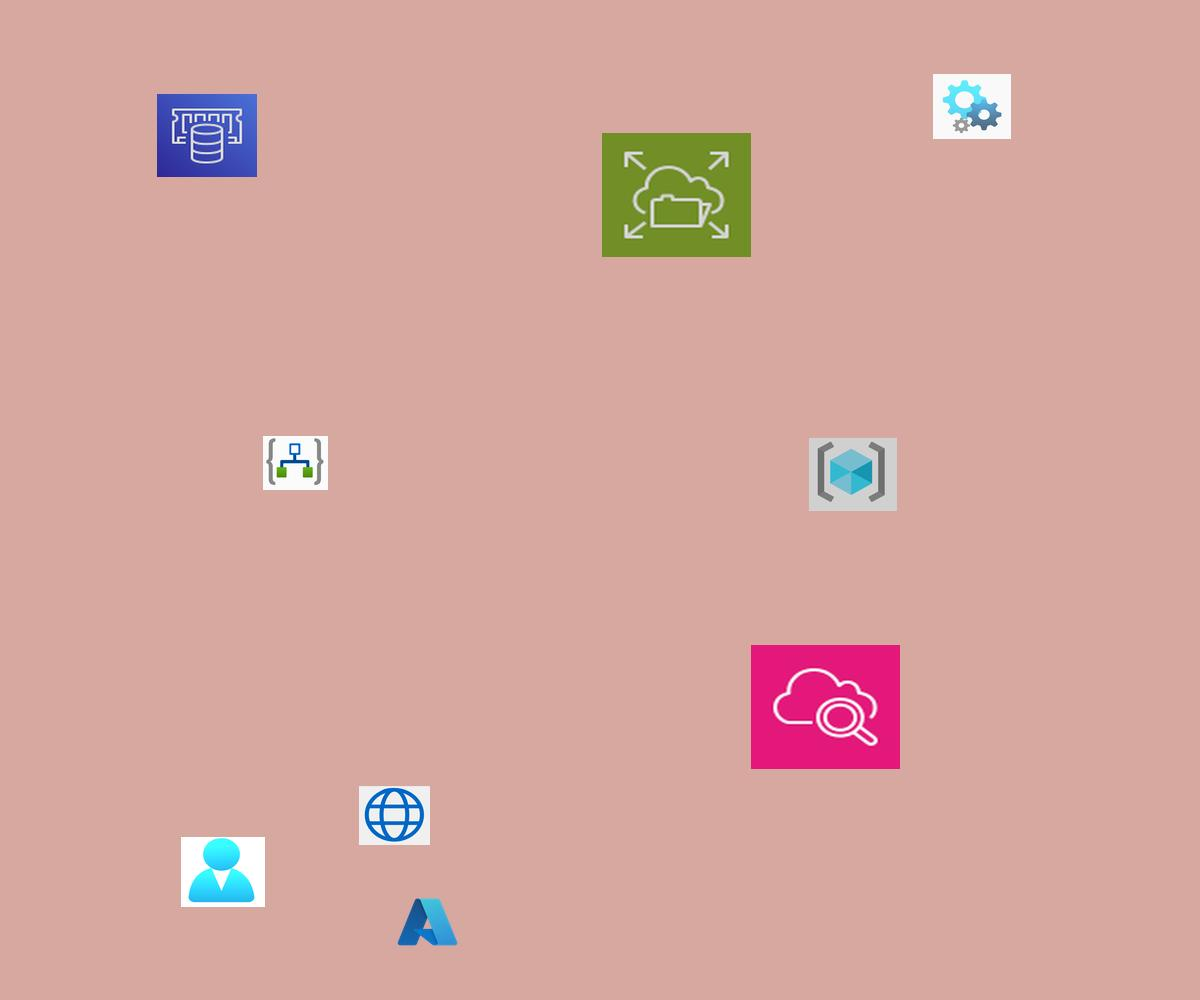AWS-CloudWatch: (751, 645, 900, 769)
AWS-EFS: (602, 133, 751, 257)
AWS-ElastiCache: (157, 94, 257, 177)
Azure_api: (933, 74, 1011, 139)
Azure_http: (359, 786, 430, 845)
Azure_integration-204-Logic-Apps: (263, 436, 328, 490)
Azure_resource_group: (809, 438, 897, 511)
Azure_services: (395, 895, 460, 949)
Azure_users: (181, 837, 265, 907)
